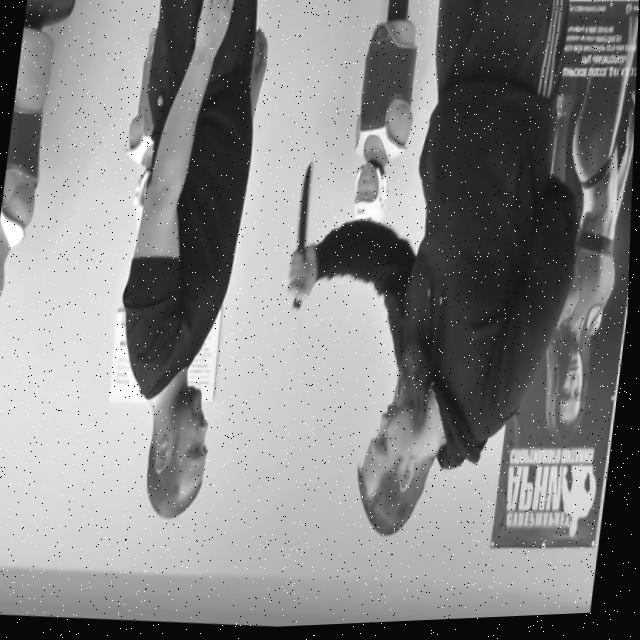knife: (296, 163, 320, 251)
